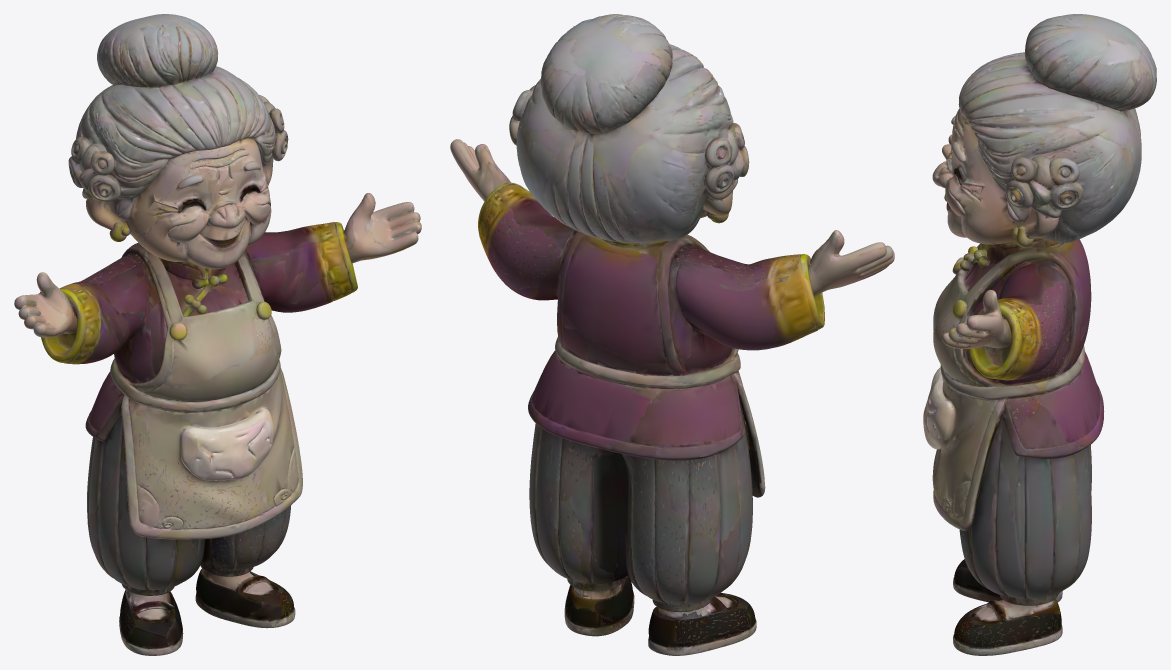
The model's file is grandma.glb.
3 renders of one model, left to right at view 1: azimuth 30°, elevation 25°; view 2: azimuth 150°, elevation 25°; view 3: azimuth 270°, elevation 25°, orthographic. The views are drawn at different scales.
Parts seen in each view (by area): view 1: convert; view 2: convert; view 3: convert.
Part boxes in pixels (box(x1,y1,x2,y2)): convert: box(14, 14, 421, 655); convert: box(450, 14, 894, 655); convert: box(923, 14, 1156, 655).
Size of the model in its own units: 0.8243 by 1.13 by 0.4034.
Materials: 1 (1 with a texture image).
